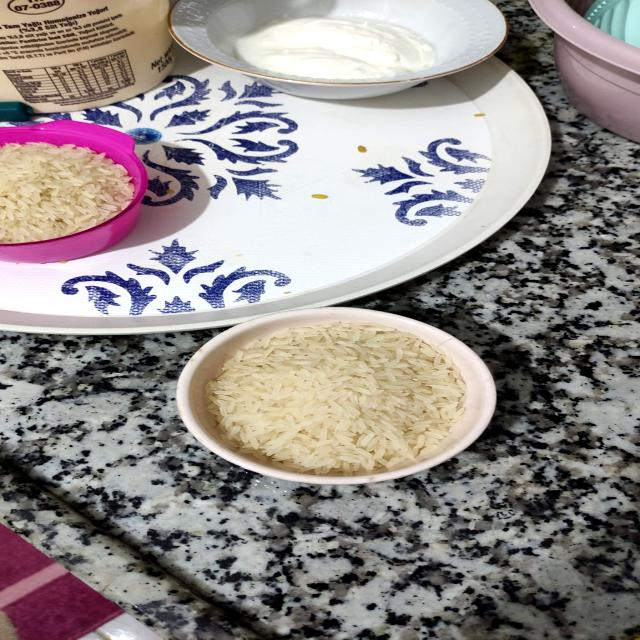rice: (180, 315, 500, 481), (0, 118, 164, 263)
yogurt: (178, 0, 529, 98)
